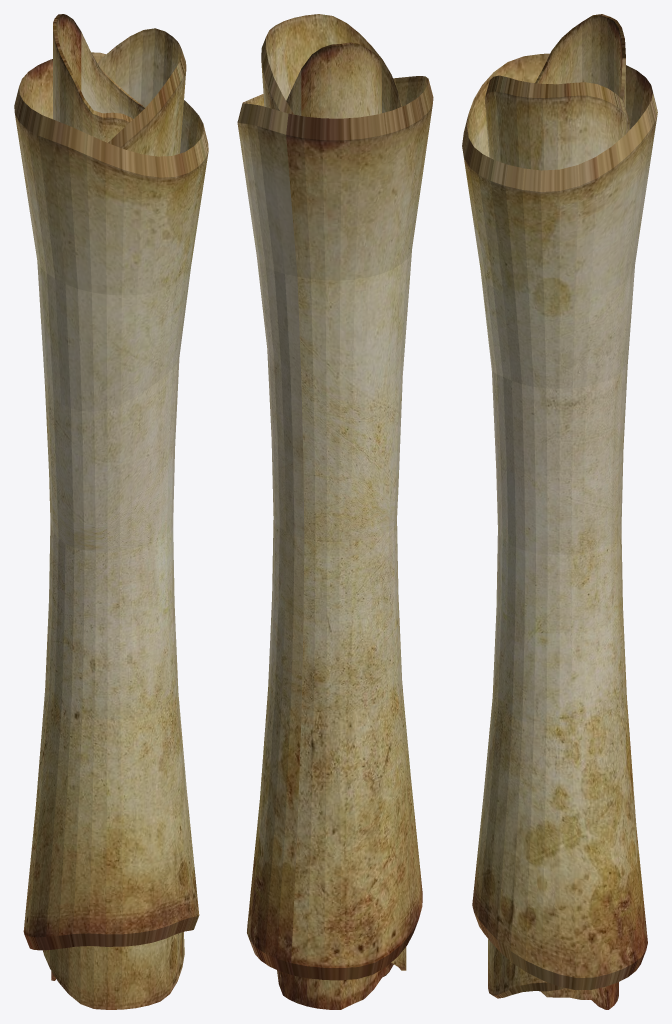
Rendered from scrol.fbx.
3 views of the same model, side by side, from view 1: azimuth 30°, elevation 25°; view 2: azimuth 150°, elevation 25°; view 3: azimuth 270°, elevation 25° (orthographic).
Parts seen in each view (by area): view 1: Cylinder.002, Cylinder.001, Cylinder; view 2: Cylinder.002, Cylinder, Cylinder.001; view 3: Cylinder.002, Cylinder.001, Cylinder.
Part boxes in pixels (<box>): Cylinder.002: <box>14,52,208,950</box>; Cylinder.001: <box>43,28,186,1009</box>; Cylinder: <box>51,14,145,980</box>; Cylinder.002: <box>237,76,433,980</box>; Cylinder: <box>277,42,393,1009</box>; Cylinder.001: <box>261,14,406,970</box>; Cylinder.002: <box>462,53,657,990</box>; Cylinder.001: <box>485,75,630,998</box>; Cylinder: <box>535,14,625,1009</box>.
Bounding box in the file's own units: 231 × 1256 × 231.
1 material, 1 textured.
